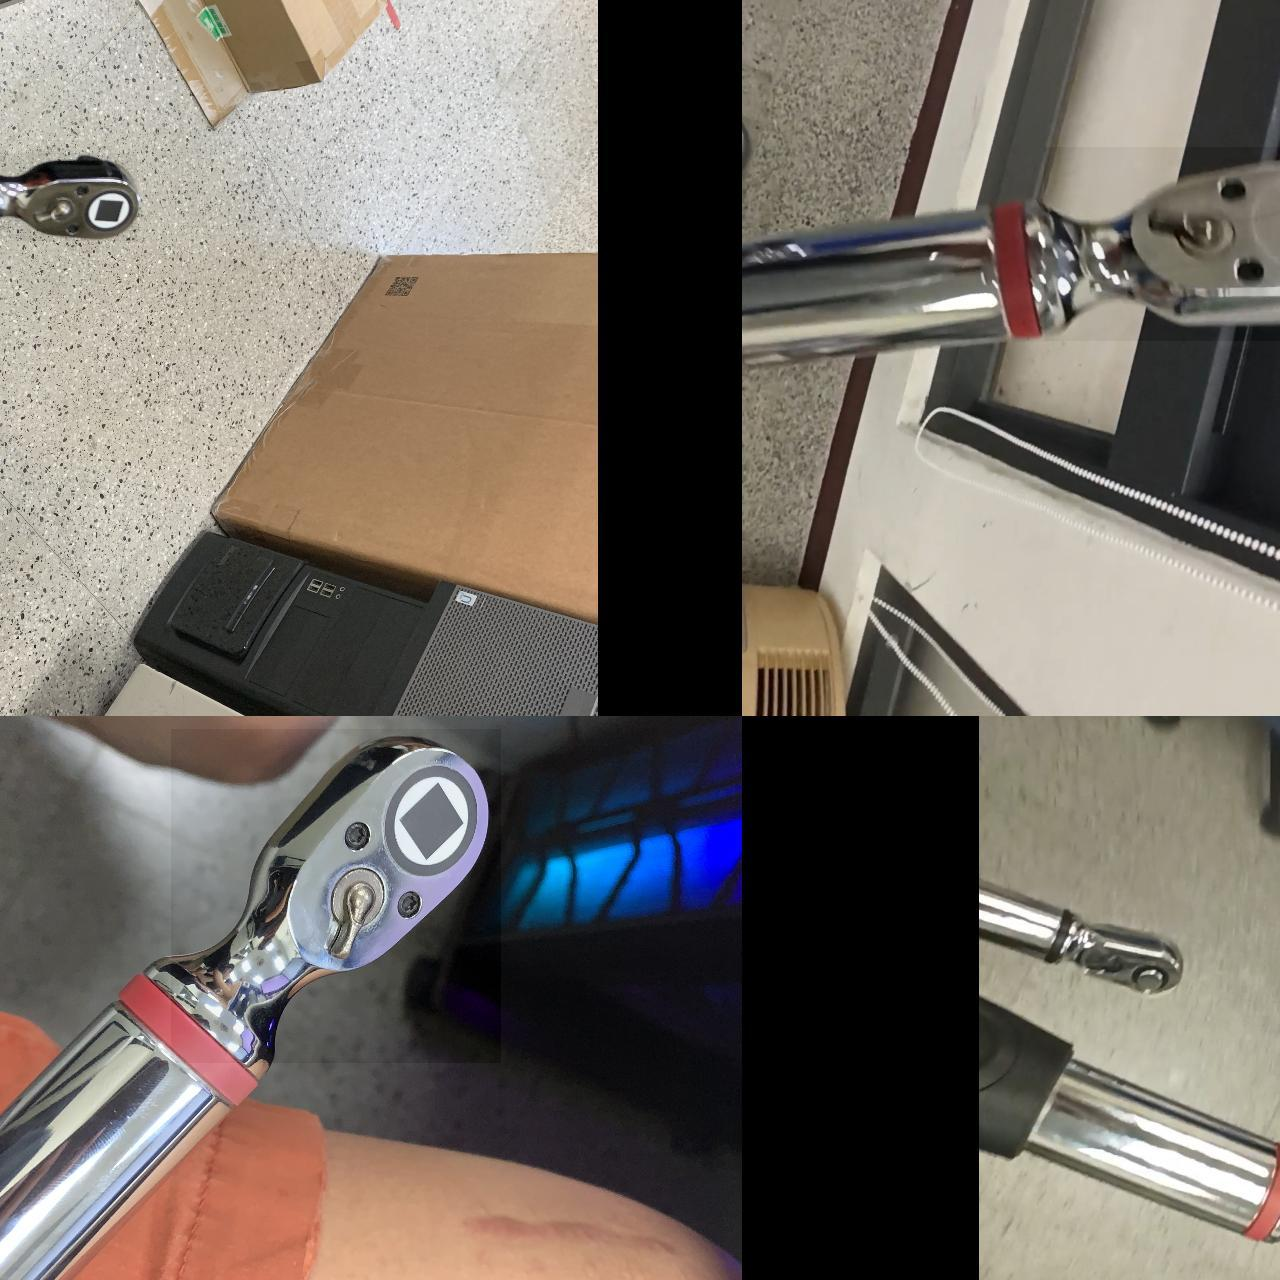Tool: (170, 729, 501, 1063), (1043, 147, 1280, 341), (0, 154, 136, 241), (1065, 927, 1183, 1001)
